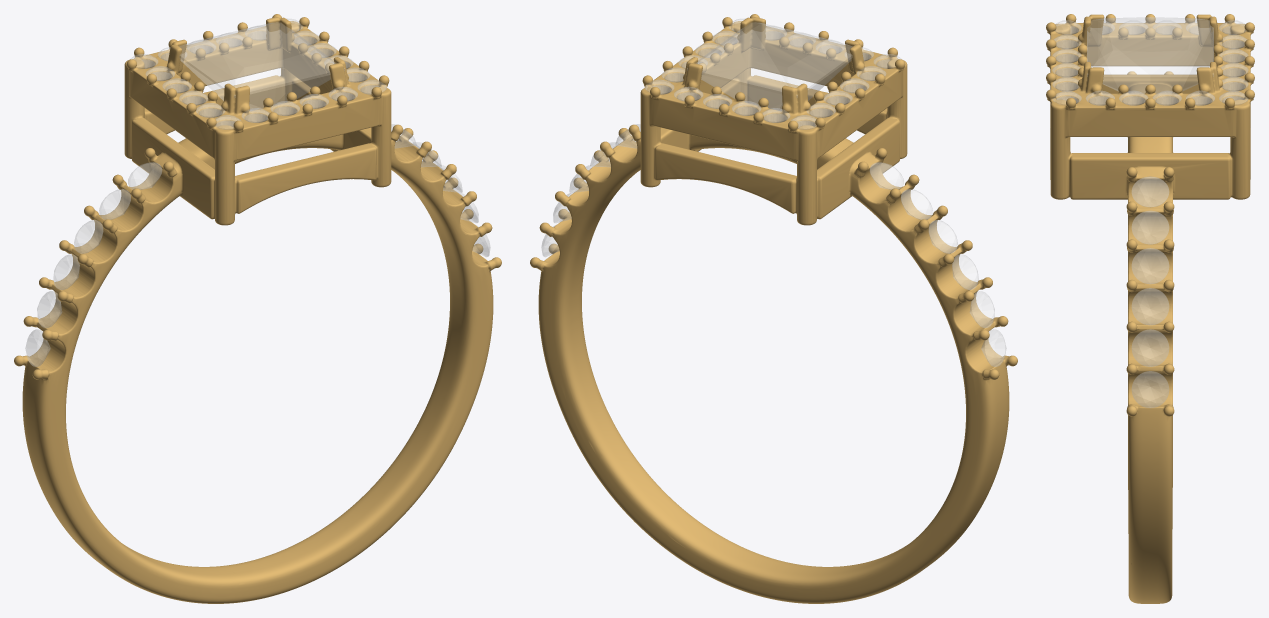
Rendered from anillo.glb.
3 renders of one model, left to right at view 1: azimuth 30°, elevation 25°; view 2: azimuth 150°, elevation 25°; view 3: azimuth 270°, elevation 25°, orthographic.
Parts seen in each view (by area): view 1: Oro, Princesa, Pave, Halo; view 2: Oro, Princesa, Pave, Halo; view 3: Oro, Princesa, Pave, Halo.
Boxes of the visible parts, <box> form: Oro: <box>14,14,501,603</box>; Princesa: <box>179,22,344,110</box>; Pave: <box>25,124,490,366</box>; Halo: <box>131,18,386,129</box>; Oro: <box>530,14,1017,603</box>; Princesa: <box>687,22,852,110</box>; Pave: <box>541,124,1006,366</box>; Halo: <box>645,18,900,129</box>; Oro: <box>1046,14,1254,603</box>; Princesa: <box>1087,17,1213,93</box>; Pave: <box>1132,176,1168,407</box>; Halo: <box>1052,20,1248,105</box>.
Bounding box in the file's own units: 20.35 × 22.73 × 7.89.
